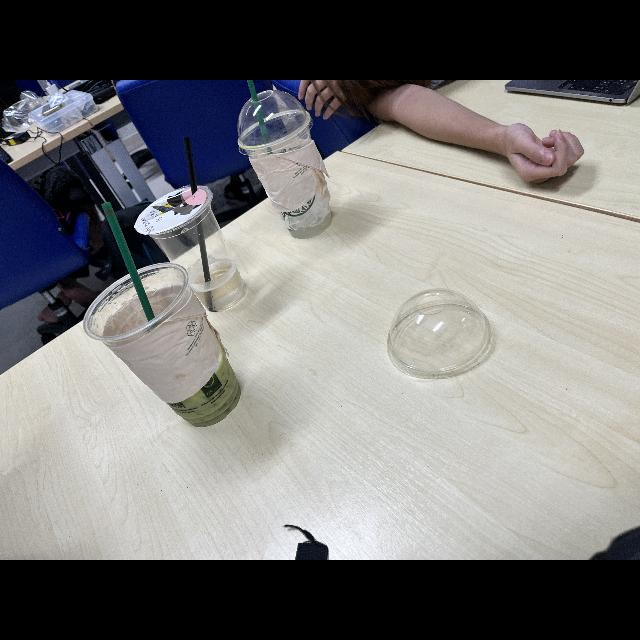plastic_cup: (78, 260, 245, 436), (238, 105, 348, 239), (132, 185, 245, 308)
plastic_cup_lid: (387, 286, 495, 380)
straw: (98, 198, 155, 325), (182, 136, 213, 310), (246, 80, 271, 147)
